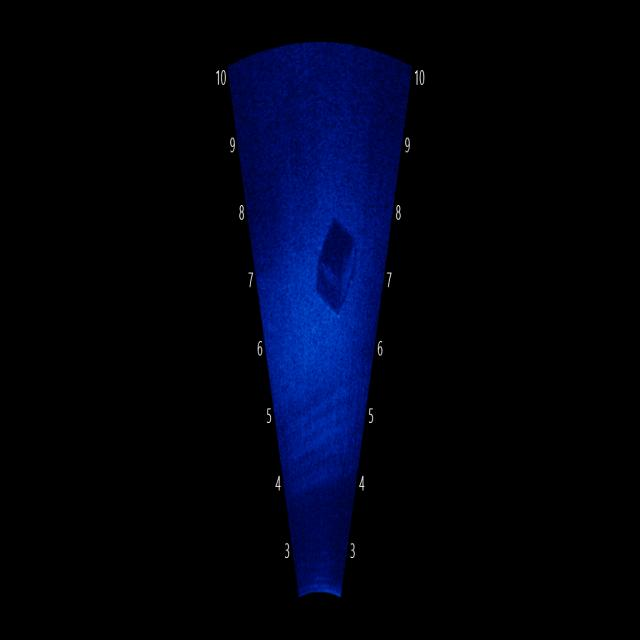square: (312, 205, 372, 333)
